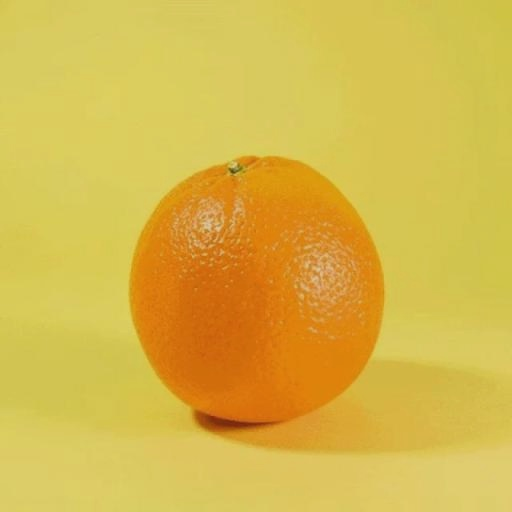fruit: (317, 138, 451, 475)
